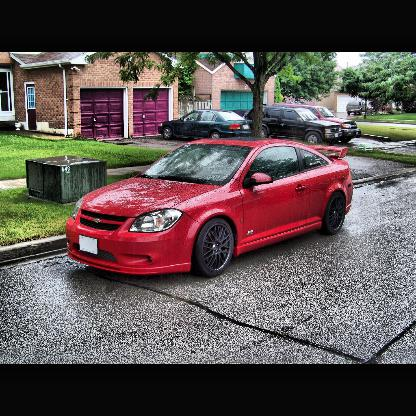Chevrolet Cobalt SS 2010: (66, 140, 354, 278)
